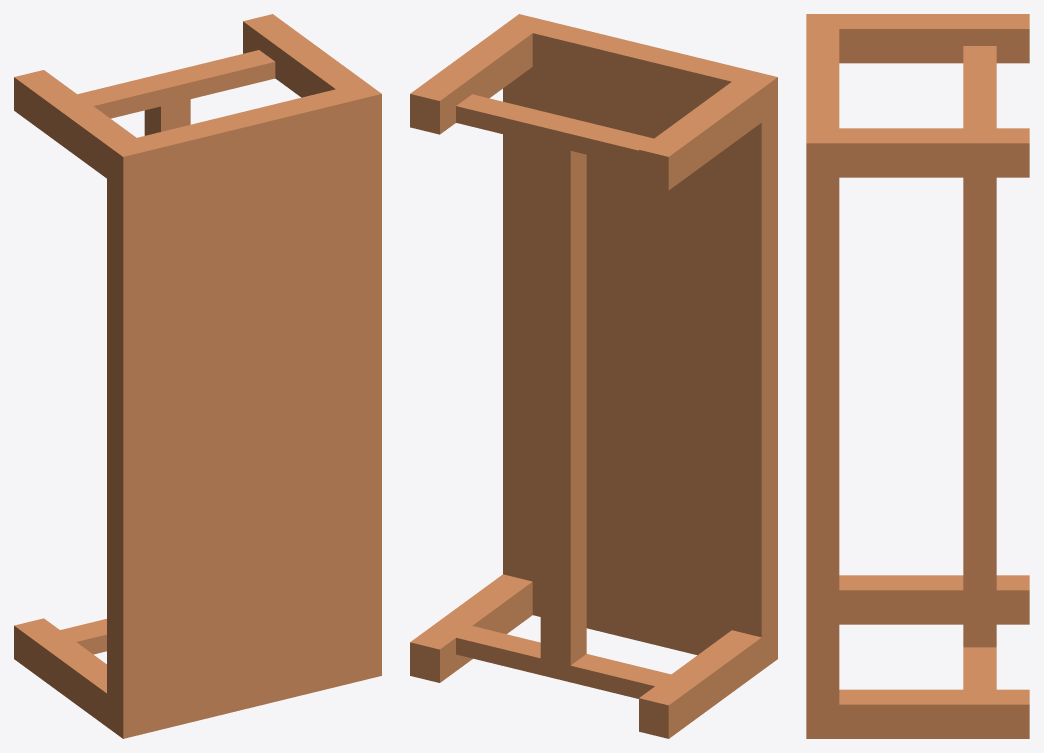
File: table.obj
3 views of the same model, side by side, from view 1: azimuth 30°, elevation 25°; view 2: azimuth 150°, elevation 25°; view 3: azimuth 270°, elevation 25° (orthographic). The views are drawn at different scales.
Visible parts, largest first — view 1: table; view 2: table; view 3: table.
Boxes of the visible parts, x1,y1,x2,y2 form: table: (14,14,381,738); table: (410,14,777,738); table: (806,14,1029,738).
Size of the model in its own units: 1.52 by 3.26 by 1.11.
